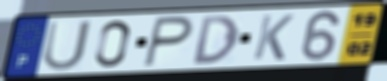0: (94, 19, 132, 69)
6: (299, 9, 342, 63)
D: (192, 14, 241, 67)
K: (250, 13, 297, 62)
P: (141, 15, 196, 69)
U: (40, 19, 94, 73)
